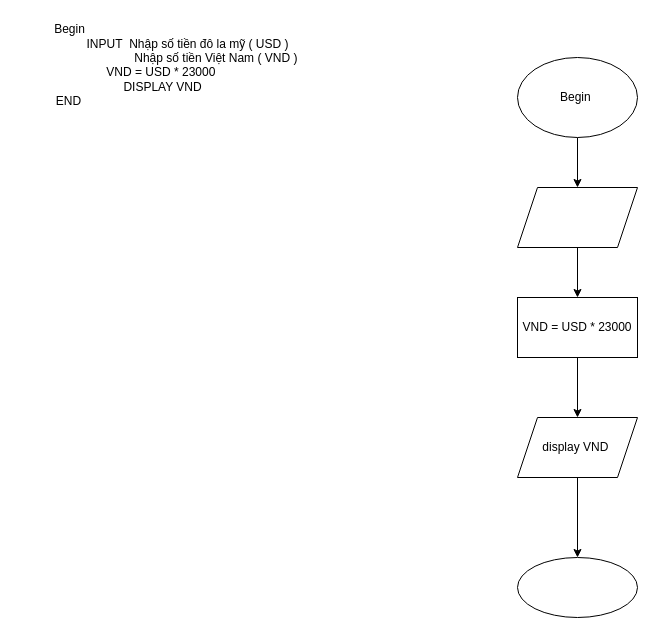
The diagram is 655 pixels wide and 635 high, and some of its shapes have lost their labels. Here are the shapes that lost their labels. From the top down, the centre of each, then its label:
the point at 577,217: input USD VND
the point at 577,587: END
